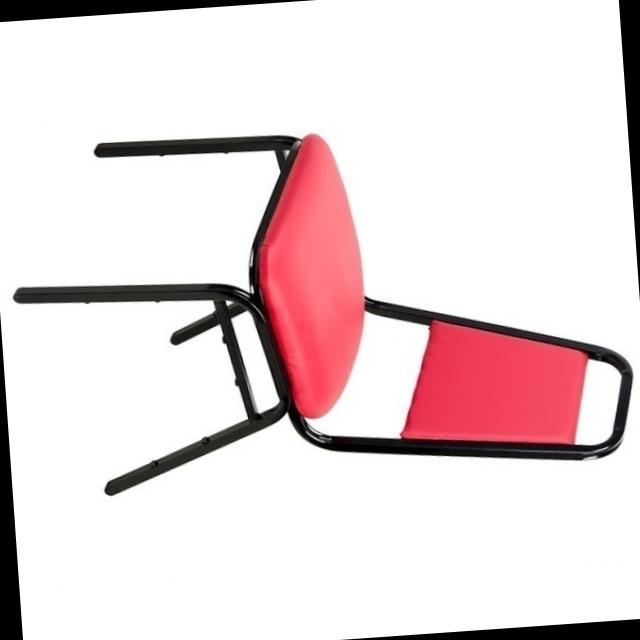Chair: (1, 84, 640, 502)
